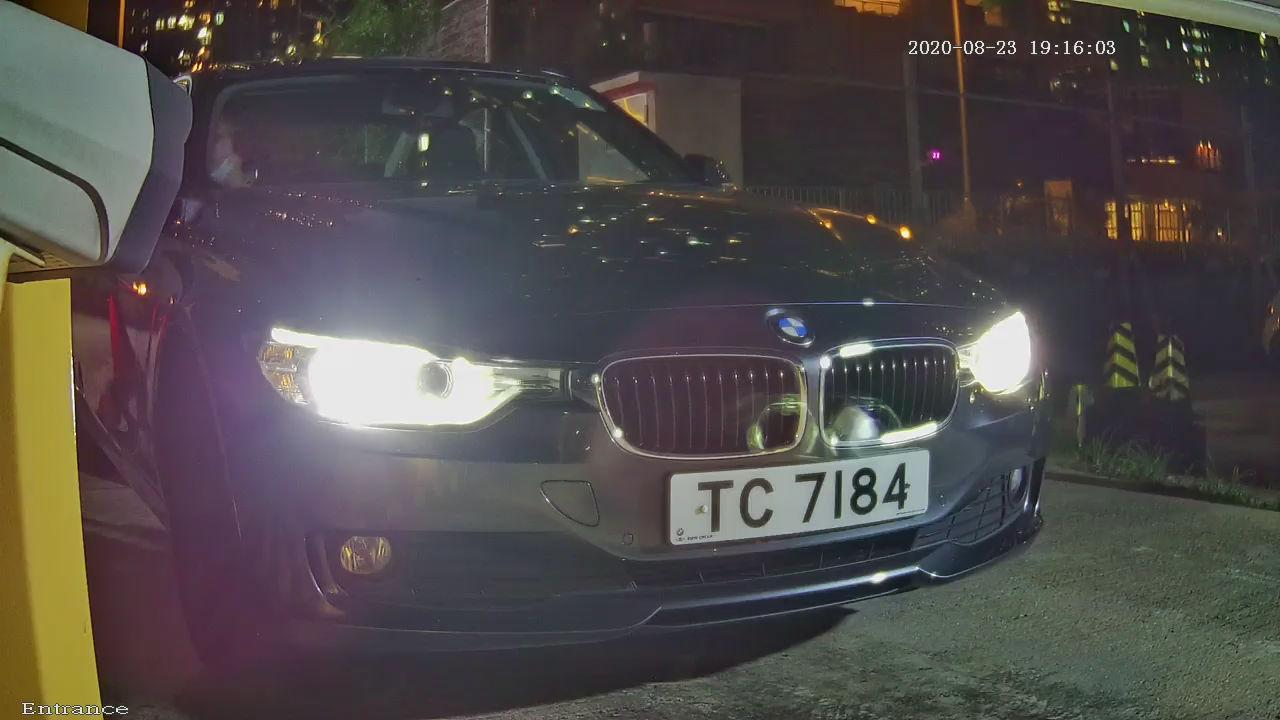Car: (35, 7, 1138, 692)
License Plate: (617, 410, 965, 576)
